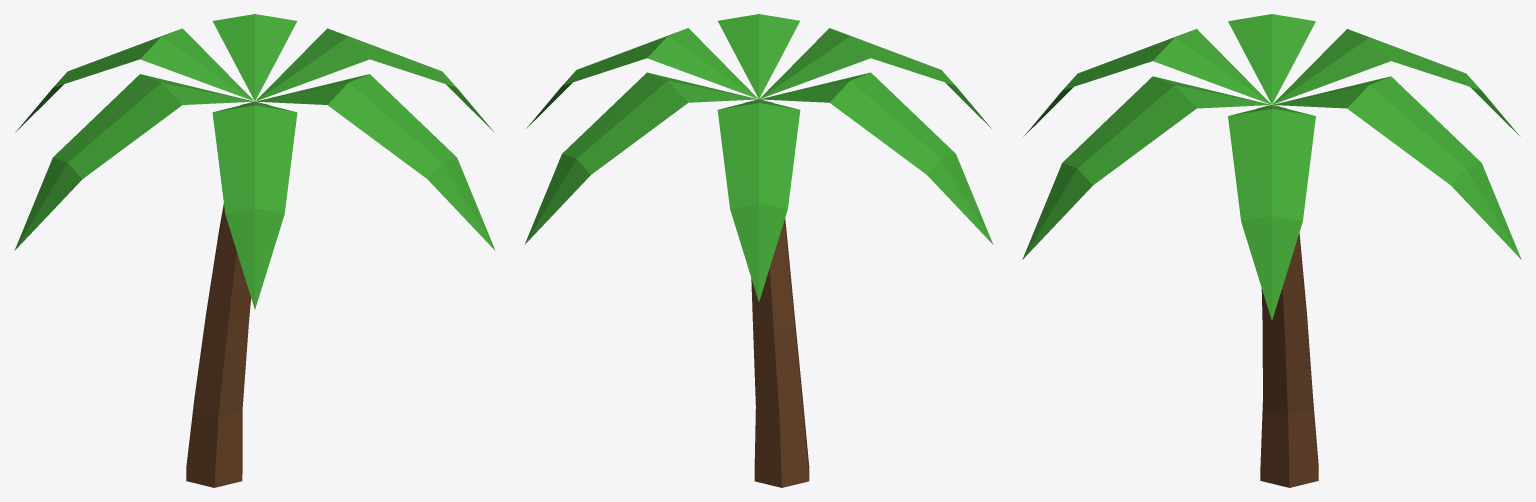
Rendered from palm_tree.obj.
3 views of the same model, side by side, from view 1: azimuth 30°, elevation 25°; view 2: azimuth 150°, elevation 25°; view 3: azimuth 270°, elevation 25° (orthographic). The views are drawn at different scales.
Parts seen in each view (by area): view 1: palm_tree; view 2: palm_tree; view 3: palm_tree.
Boxes of the visible parts, <box> form: palm_tree: <box>14,14,495,487</box>; palm_tree: <box>524,14,993,487</box>; palm_tree: <box>1022,14,1521,487</box>.
Bounding box in the file's own units: 7.2 × 5.9 × 6.24.
